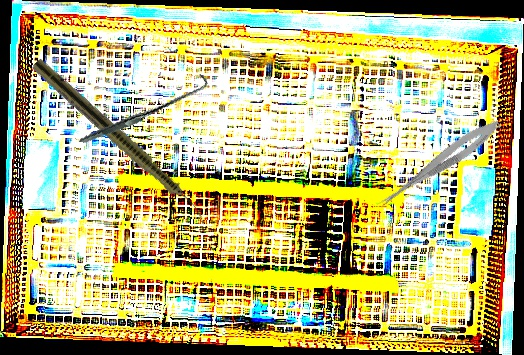Handpiece: (29, 57, 215, 227)
Hook Surgical: (77, 46, 210, 172)
Micro Scissor: (374, 114, 505, 216)
